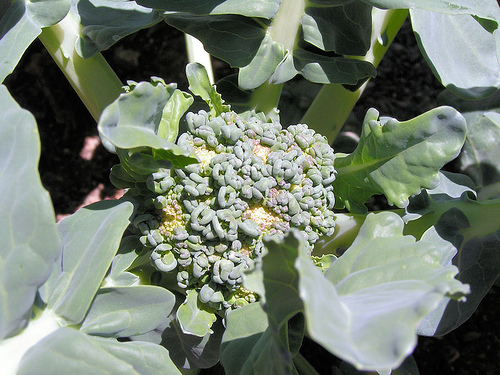broccoli: (130, 106, 337, 312)
